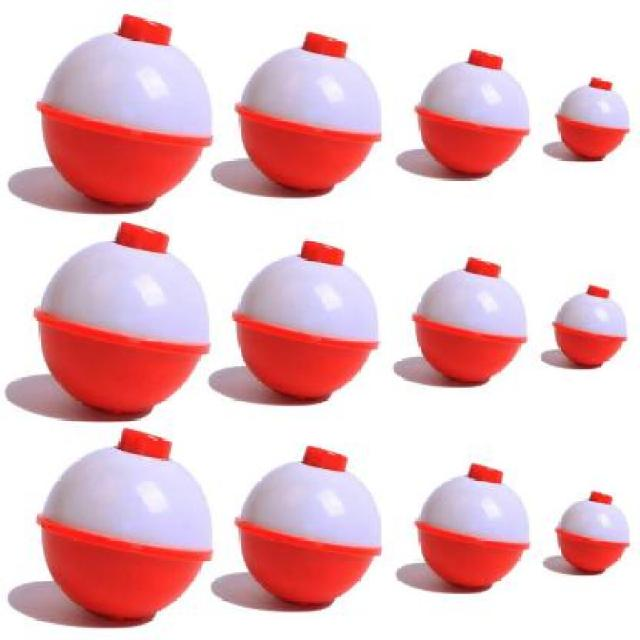a: (18, 17, 241, 208), (17, 426, 225, 627), (16, 227, 223, 420), (217, 233, 396, 414), (220, 29, 391, 196), (224, 439, 380, 611), (393, 439, 538, 598), (406, 35, 529, 182), (551, 66, 636, 171)
